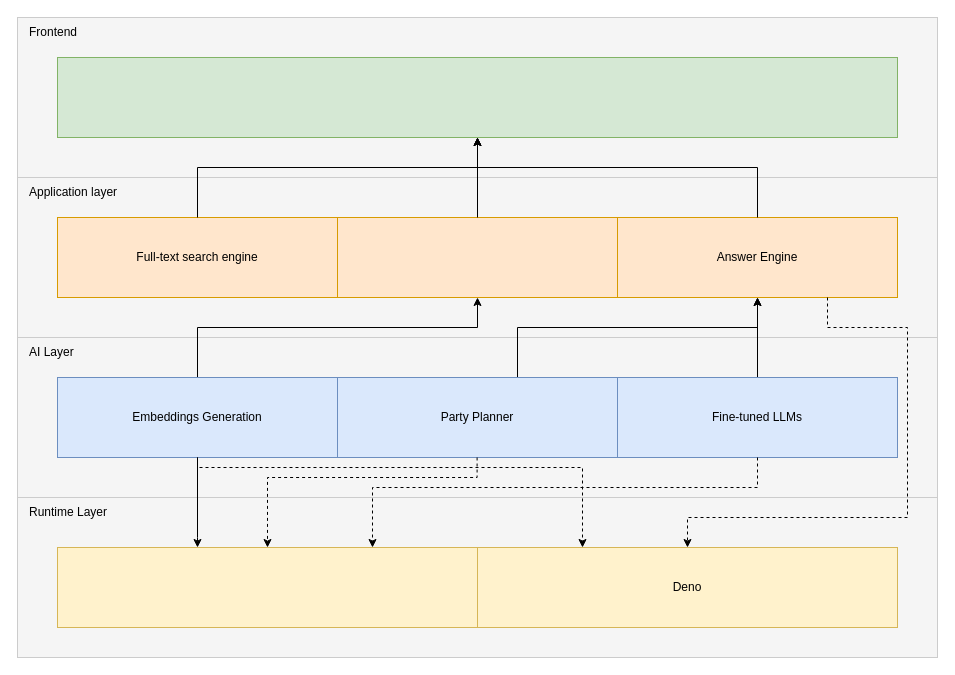
This 955x675 diagram has some shape labels left out. The centre of each missing label's shape, as x and y in pixels:
"ONNX Runtime" goes at [267,587].
"Rust Webserver" goes at [477,97].
"Vector database" goes at [477,257].
